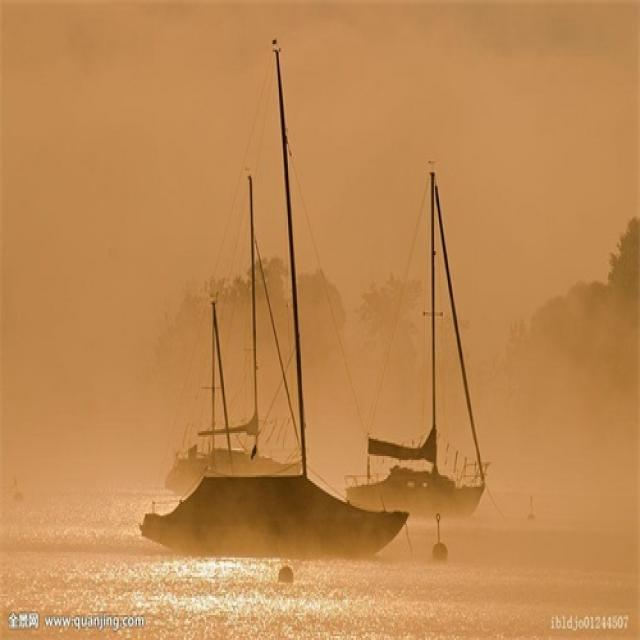Ship: (169, 51, 407, 574), (347, 174, 497, 534)
